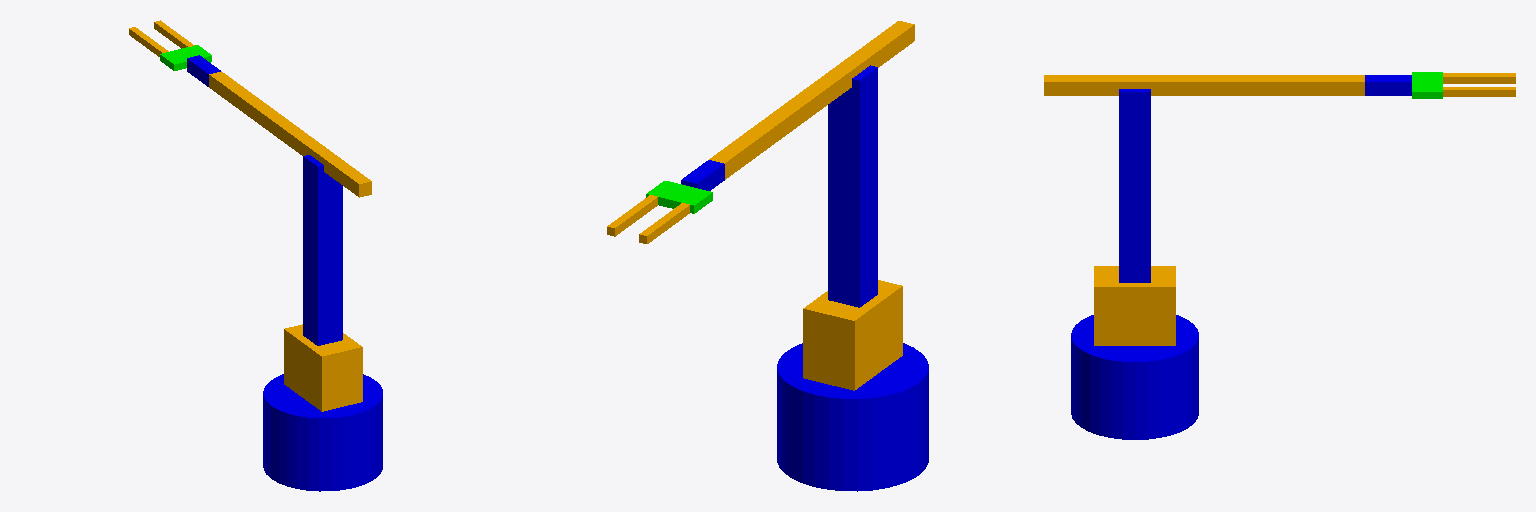
robot.urdf — ebamk2:
<?xml version="1.0"?>
<robot name="ebamk2">

  <material name="red">
    <color rgba="1 0.701 0 0.278"/>
  </material>

  <material name="blue">
    <color rgba="0 0 1 1"/>
  </material>

  <material name="green">
    <color rgba="0 1 0 1"/>
  </material>

  <link name="base_link">
    <visual>
      <origin xyz="0 0 0.0275" rpy="0 0 0" />
      <geometry>
        <cylinder length="0.055" radius="0.041"/>
      </geometry>
      <material name="blue"/>
    </visual>
  </link>

  <joint name="joint_1" type="revolute">
    <origin xyz="0 0 0.07575" rpy="0 0 0" />
    <parent link="base_link" />
    <child link="link_1" />
    <axis xyz="0 0 1" />
    <limit
      effort="0" velocity="0"
      lower="-0.7854" upper="0.7854"/>
  </joint>

  <link name="link_1">
    <visual>
      <origin xyz="0 0 0" rpy="0 0 0" />
      <geometry>
        <box size="0.032 0.052 0.0415" />
      </geometry>
      <material name="red" />
    </visual>
  </link>

  <joint name="joint_2" type="revolute">
    <origin xyz="0 0 0.02075" rpy="0 0 0" />
    <parent link="link_1" />
    <child link="link_2" />
    <axis xyz="1 0 0" />
    <limit
      effort="0" velocity="0"
      lower="-0.80" upper="0.35"/>
  </joint>

  <link name="link_2">
    <visual>
      <origin xyz="0 0 0.0675" rpy="0 0 0" />
      <geometry>
        <box size="0.02 0.02 0.135" />
      </geometry>
      <material name="blue" />
    </visual>
  </link>

  <joint name="joint2v" type="revolute">
    <origin xyz="0 0 0.135" rpy="0 0 0" />
    <parent link="link_2"/>
    <child link="link_2v"/>
    <axis xyz="1 0 0"/>
    <limit effort="30" velocity="1.0" lower="-3.14159" upper="3.14159" />
    <mimic joint="joint_2" multiplier="-1" offset="0" />
  </joint>

  <link name="link_2v">
    <visual>
      <geometry>
        <cylinder length="0.001" radius="0.001"/>
      </geometry>
      <material name="green"/>
      <origin rpy="0 0 0" xyz="0 0 0"/>
    </visual>
    <collision>
      <geometry>
        <cylinder length="0.001" radius="0.001"/>
      </geometry>
      <origin rpy="0 0 0" xyz="0 0 0"/>
    </collision>
  </link>

  <joint name="joint_3" type="revolute">
    <origin xyz="0 0 0" rpy="0 0 0" />
    <parent link="link_2v" />
    <child link="link_3" />
    <axis xyz="1 0 0" />
    <limit
      effort="0" velocity="0"
      lower="-0.77" upper="0.45"/>
  </joint>

  <link name="link_3">
    <visual>
      <origin xyz="0 0.0445 0" rpy="0 0 0" />
      <geometry>
        <box size="0.01 0.205 0.01" />
      </geometry>
      <material name="red" />
    </visual>
  </link>

  <joint name="joint_4" type="revolute">
    <origin xyz="0 0.147 0" rpy="0 0 0" />
    <parent link="link_3" />
    <child link="link_4" />
    <axis xyz="1 0 0" />
    <limit effort="0" velocity="0" lower="-1.01" upper="1.01"/>
    <mimic joint="joint_3" multiplier="-1" offset="0" />
  </joint>

  <link name="link_4">
    <visual>
      <origin xyz="0 0.015 0" rpy="0 0 0" />
      <geometry>
        <box size="0.01 0.03 0.01" />
      </geometry>
      <material name="blue" />
    </visual>
  </link>

  <joint name="joint_5" type="fixed">
    <origin xyz="0 0.04 0" rpy="0 0 0" />
    <parent link="link_4" />
    <child link="claw_base" />
    <axis xyz="1 0 0" />
  </joint>

  <link name="claw_base">
    <visual>
      <origin xyz="0 0 0" rpy="0 0 0" />
      <geometry>
        <box size="0.03 0.02 0.005" />
      </geometry>
      <material name="green" />
    </visual>
  </link>

  <joint name="joint_6" type="revolute">
    <axis xyz="0 0 1" />
    <limit effort="1.0" lower="-0.15" upper="0.65" velocity="1.0" />
    <origin xyz="-0.01 0.01 0" rpy="0 0 0" />
    <parent link="claw_base"/>
    <child link="claw_l"/>
  </joint>

  <joint name="joint_7" type="revolute">
    <axis xyz="0 0 -1" />
    <limit effort="1.0" lower="-0.15" upper="0.65" velocity="1.0" />
    <origin xyz="0.01 0.01 0" rpy="0 0 0" />
    <parent link="claw_base"/>
    <child link="claw_r"/>
    <mimic joint="joint_6" multiplier="1.0" offset="0" />
  </joint>

  <link name="claw_l">
    <visual>
      <origin xyz="0 0.023 0" rpy="0 0 0" />
      <geometry>
        <box size="0.005 0.047 0.005" />
      </geometry>
      <material name="red" />
    </visual>
  </link>
  <link name="claw_r">
    <visual>
      <origin xyz="0 0.023 0" rpy="0 0 0" />
      <geometry>
        <box size="0.005 0.047 0.005" />
      </geometry>
      <material name="red" />
    </visual>
  </link>

  <transmission name="trans_1">
    <type>transmission_interface/SimpleTransmission</type>
    <joint name="joint_1">
      <hardwareInterface>PositionJointInterface</hardwareInterface>
    </joint>
    <actuator name="servo1">
      <hardwareInterface>PositionJointInterface</hardwareInterface>
      <mechanicalReduction>1</mechanicalReduction>
    </actuator>
  </transmission>
  <transmission name="trans_2">
    <type>transmission_interface/SimpleTransmission</type>
    <joint name="joint_2">
      <hardwareInterface>PositionJointInterface</hardwareInterface>
    </joint>
    <actuator name="servo2">
      <hardwareInterface>PositionJointInterface</hardwareInterface>
      <mechanicalReduction>1</mechanicalReduction>
    </actuator>
  </transmission>
  <transmission name="trans_3">
    <type>transmission_interface/SimpleTransmission</type>
    <joint name="joint_3">
      <hardwareInterface>PositionJointInterface</hardwareInterface>
    </joint>
    <actuator name="servo3">
      <hardwareInterface>PositionJointInterface</hardwareInterface>
      <mechanicalReduction>1</mechanicalReduction>
    </actuator>
  </transmission>
  <transmission name="trans_6">
    <type>transmission_interface/SimpleTransmission</type>
    <joint name="joint_6">
      <hardwareInterface>PositionJointInterface</hardwareInterface>
    </joint>
    <actuator name="servo4">
      <hardwareInterface>PositionJointInterface</hardwareInterface>
      <mechanicalReduction>1</mechanicalReduction>
    </actuator>
  </transmission>

</robot>

--- Facts derived from the render (not from the file) ---
The picture shows the robot from 3 angles, left to right: view 1: azimuth 30°, elevation 25°; view 2: azimuth 150°, elevation 25°; view 3: azimuth 270°, elevation 25°; orthographic projection.
Robot: ebamk2 — 9 links, 8 joints (7 revolute, 1 fixed); root link base_link; default pose: every joint at zero.
Visible links, largest first — view 1: base_link, link_2, link_1, link_3, claw_base, link_4; view 2: base_link, link_2, link_1, link_3, claw_base, link_4, claw_r, claw_l; view 3: base_link, link_3, link_2, link_1, link_4, claw_base, claw_l, claw_r.
Link boxes in pixels (x1,y1,x2,y2): base_link: (263,374,382,491); link_2: (303,155,342,345); link_1: (284,324,362,411); link_3: (209,71,371,197); claw_base: (160,45,211,70); link_4: (187,55,220,86); base_link: (777,343,928,491); link_2: (828,65,877,307); link_1: (803,280,902,390); link_3: (709,21,914,179); claw_base: (646,181,712,213); link_4: (681,160,724,190); claw_r: (607,195,658,236); claw_l: (639,203,689,243); base_link: (1071,315,1198,439); link_3: (1044,75,1364,95); link_2: (1119,89,1150,282); link_1: (1094,266,1175,345); link_4: (1365,75,1411,95); claw_base: (1412,72,1442,98); claw_l: (1443,73,1515,83); claw_r: (1443,87,1515,96).
Size in the robot's own frame: 0.082 by 0.3015 by 0.2365 metres.
Geometry: primitives only (box / cylinder / sphere), no mesh files.
